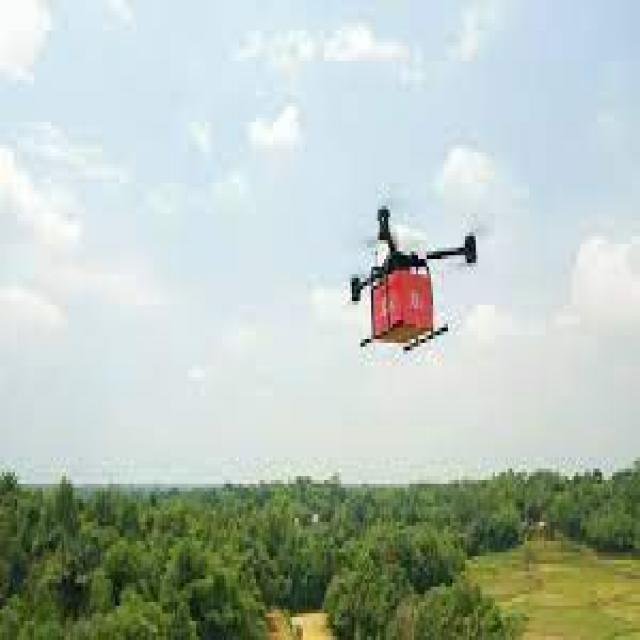drones: (322, 183, 484, 380)
